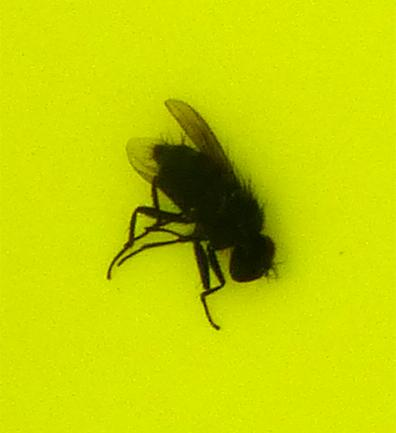Brachycera: (100, 100, 296, 333)
